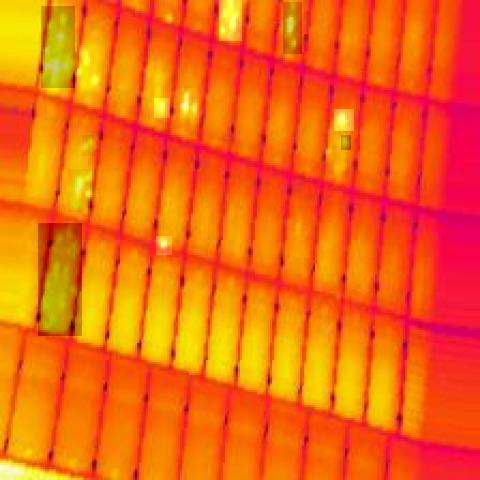fault: (38, 223, 82, 336), (41, 6, 75, 88), (68, 169, 96, 212), (77, 45, 101, 92), (283, 2, 302, 54), (219, 0, 242, 41), (180, 88, 199, 118), (334, 109, 354, 131), (154, 98, 170, 118), (156, 236, 172, 255), (82, 135, 94, 156), (341, 135, 351, 150)
